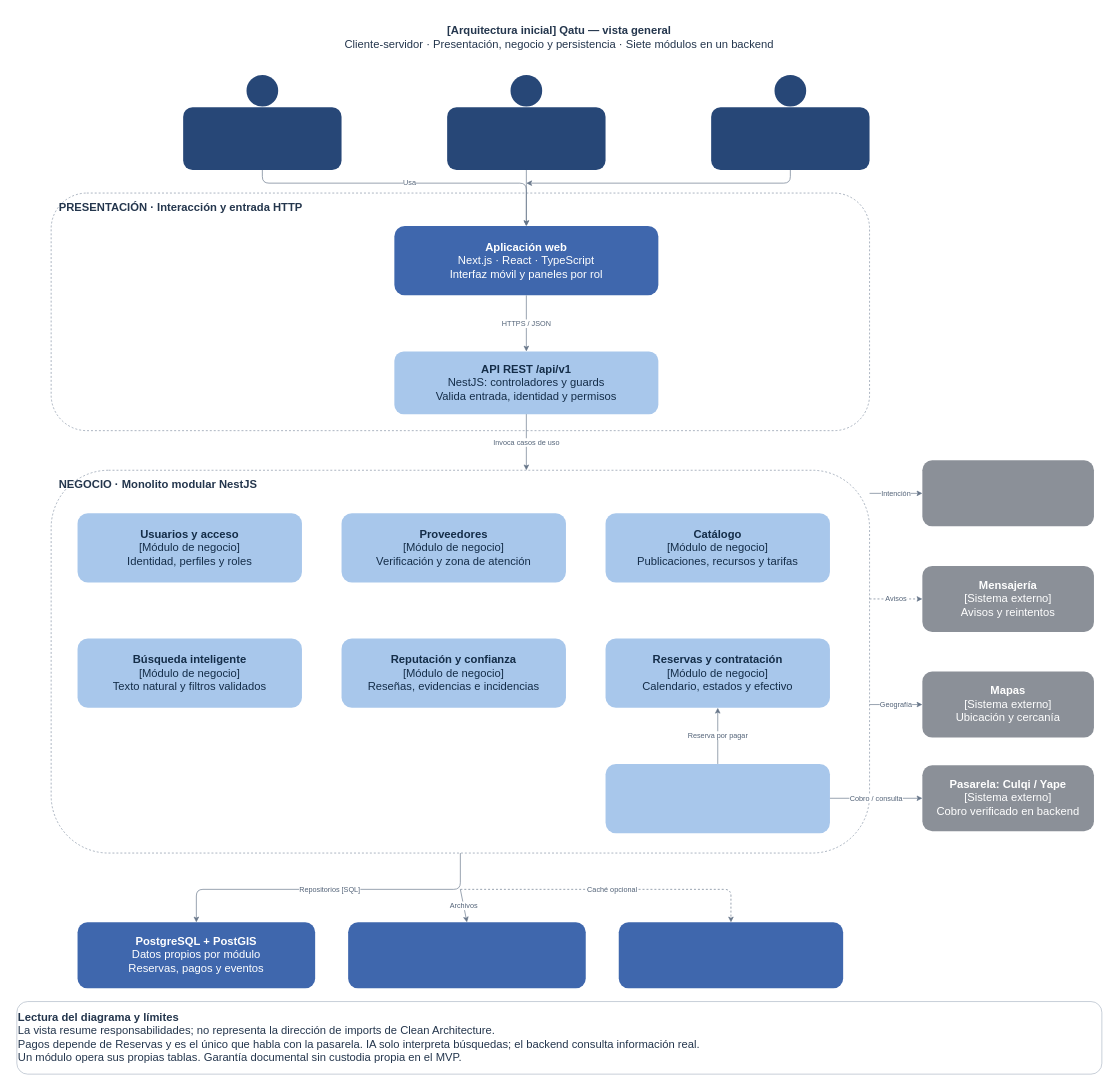
This 1118x1086 diagram has some shape labels left out. Here are the shapes that lost their labels. From the top down, the box of each, then its label:
(183, 107, 341, 170): Cliente / visitante [Persona] Busca, reserva y paga
(447, 107, 605, 170): Proveedor [Persona] Publica y atiende solicitudes
(711, 107, 869, 170): Administrador [Persona] Verifica y modera
(922, 460, 1094, 526): Proveedor de IA [Sistema externo] Interpreta intención
(605, 764, 830, 833): Pagos [Módulo de negocio] Intentos, pasarela y conciliación
(348, 922, 585, 988): Fotos y evidencias Almacén persistente privado Permisos por participante
(618, 922, 843, 988): Redis — opcional Caché de consultas públicas Se incorpora después de medir
